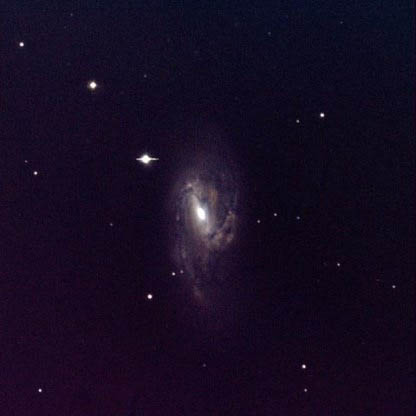Messier 66: (123, 144, 263, 309)
